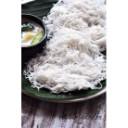idiyappam: (42, 36, 100, 90), (48, 1, 106, 50)
